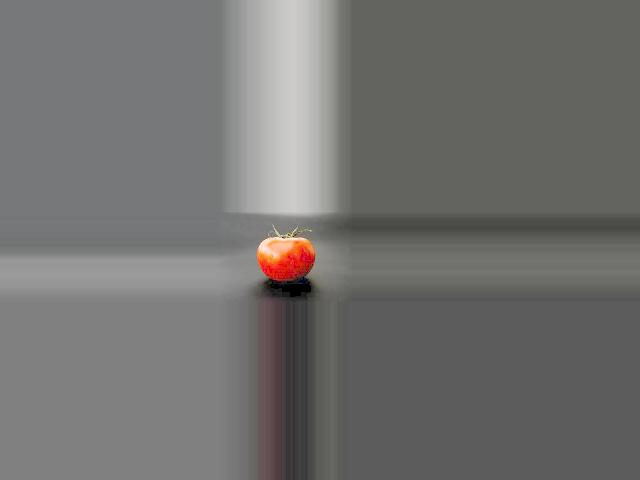tomato: (256, 237, 314, 281)
